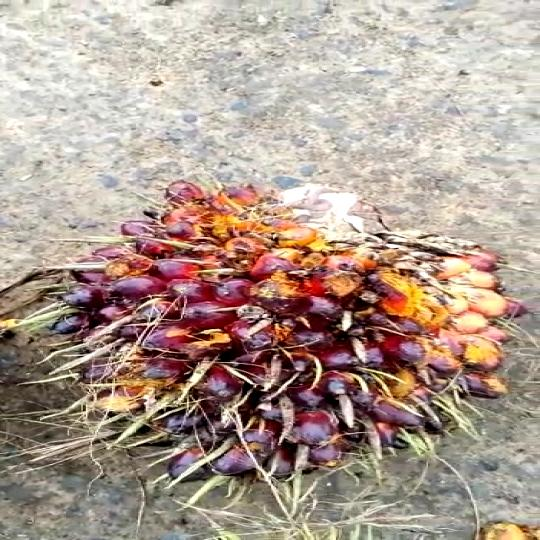masak: (44, 166, 517, 498)
